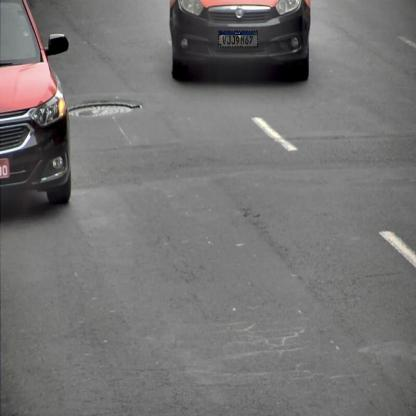PlacaM: (218, 31, 258, 47)
